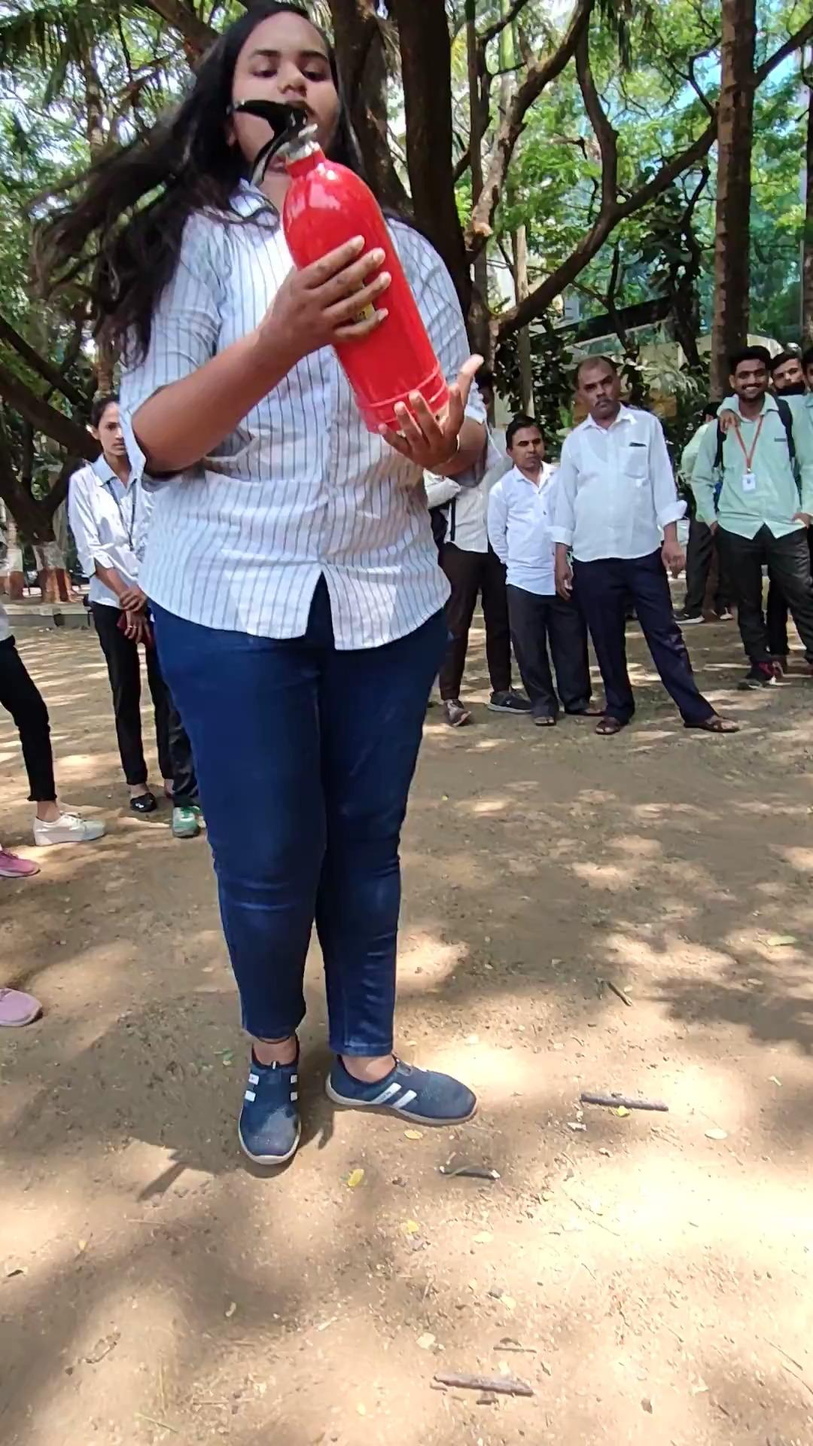FireExtinguisher: (260, 140, 484, 453)
